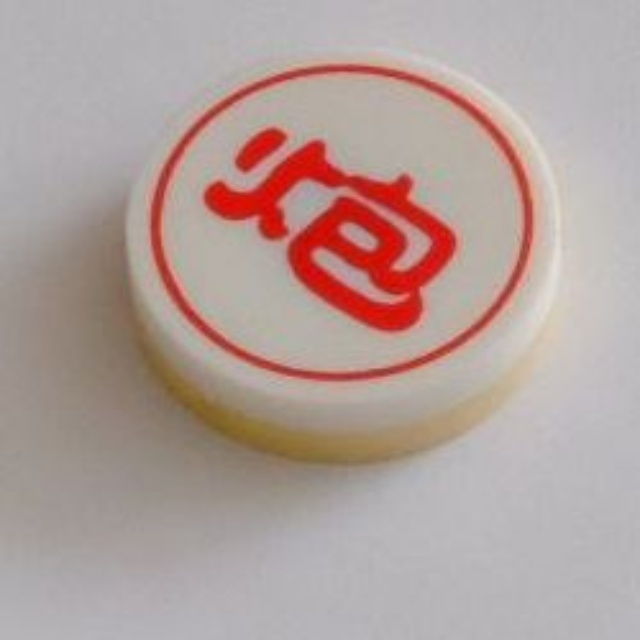red_phao: (115, 41, 564, 476)
